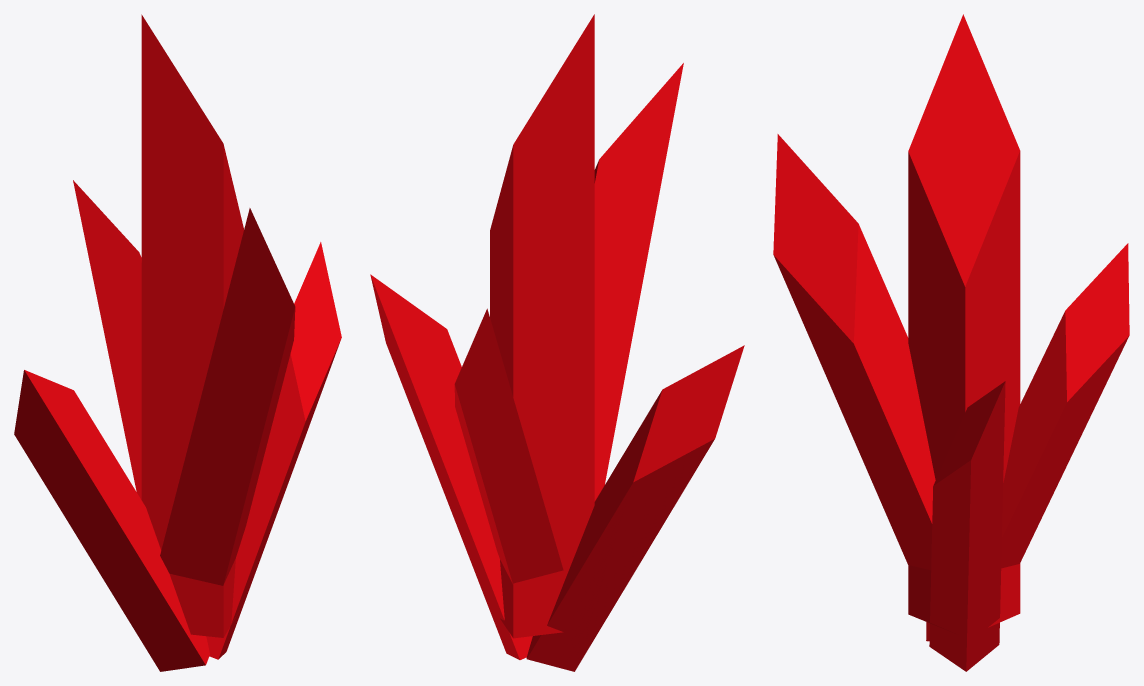
File: Crystal_0.fbx
3 renders of one model, left to right at view 1: azimuth 30°, elevation 25°; view 2: azimuth 150°, elevation 25°; view 3: azimuth 270°, elevation 25°, orthographic. The views are drawn at different scales.
Visible parts, largest first — view 1: Cube; view 2: Cube; view 3: Cube.
Part boxes in pixels (x1,y1,x2,y2): Cube: (14,14,341,671); Cube: (370,14,744,671); Cube: (773,14,1129,671).
Size of the model in its own units: 277 by 519 by 270.
